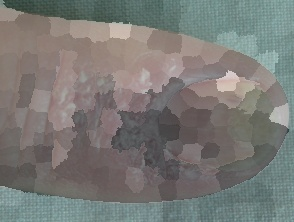Nail_psoriasis: (36, 59, 282, 191)
